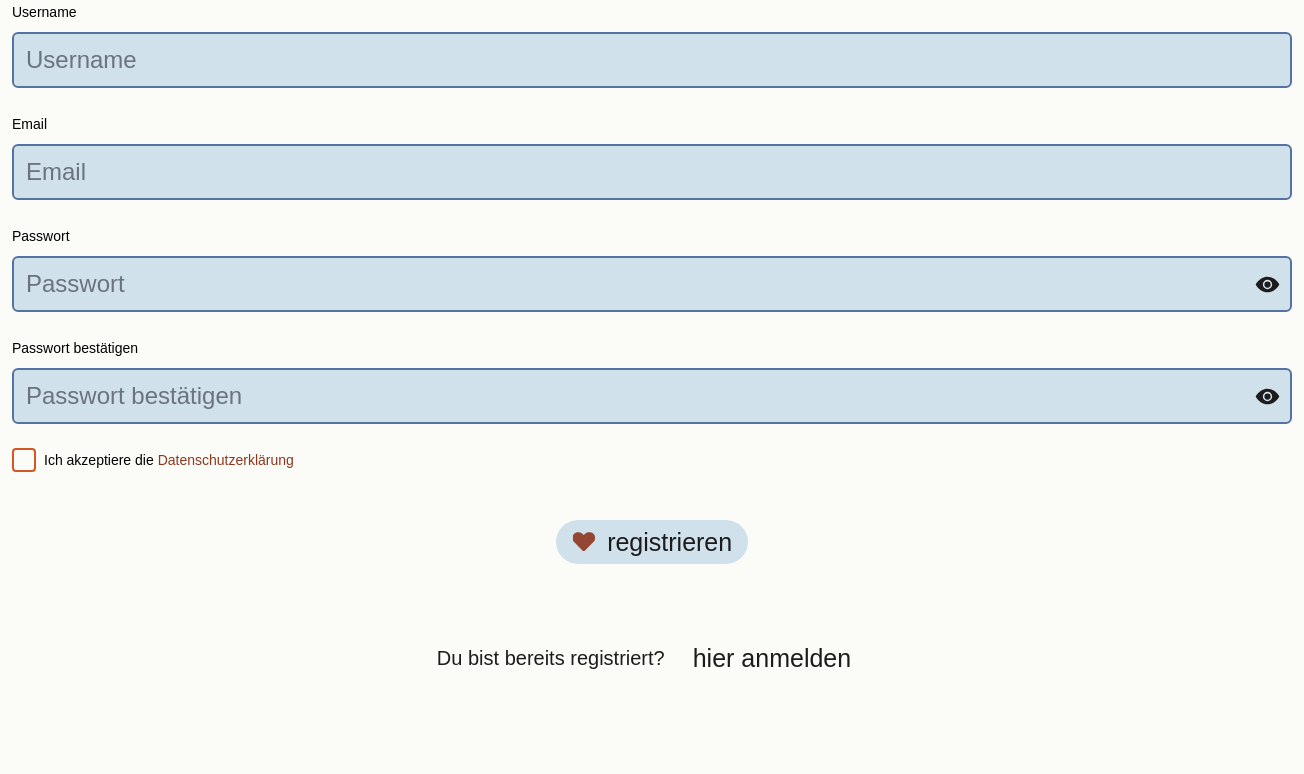
Test: RegisterForm › should show validation error when 'acceptDataPolicy' is not checked
The width and height of the screenshot is (1304, 774).
Click the button "registrieren": (652, 542) [556, 520, 748, 564]
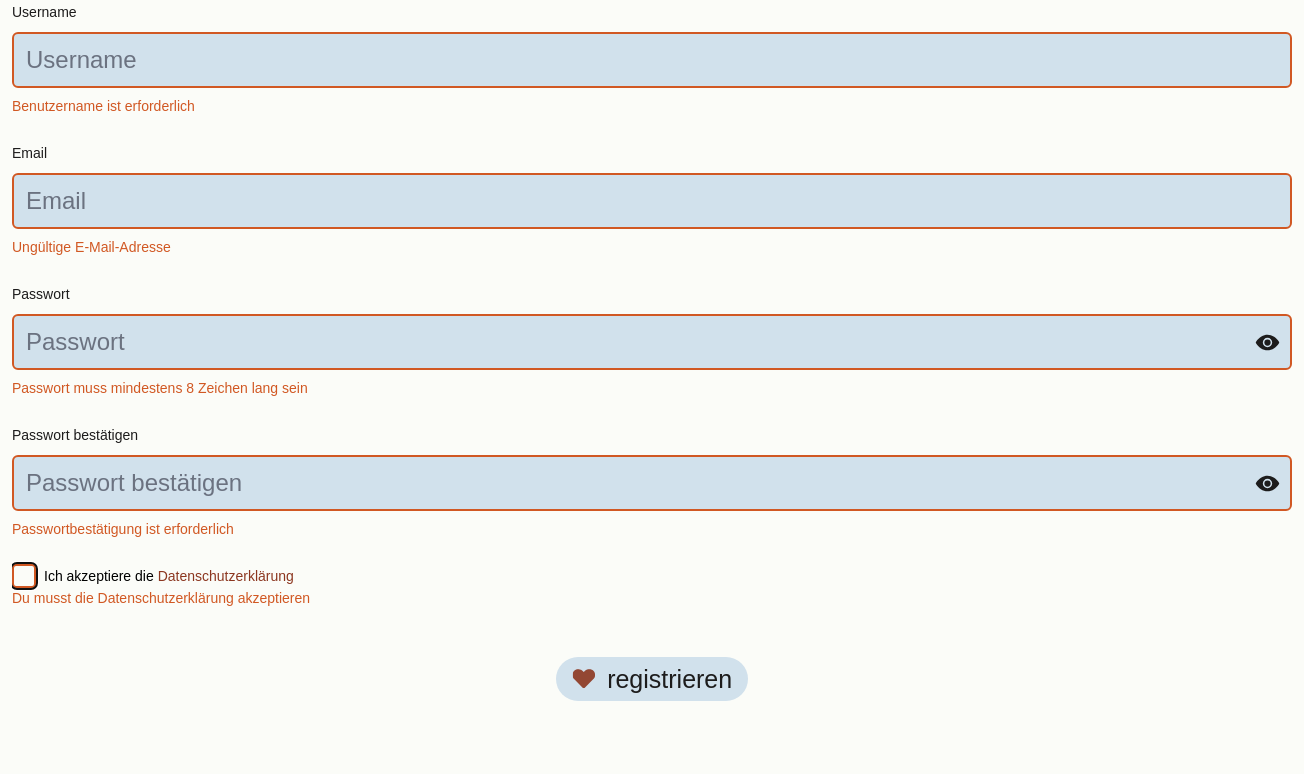
Expected: the text "Du musst die Datenschutzerklärung akzeptieren" is shown, [12, 590, 310, 606]
